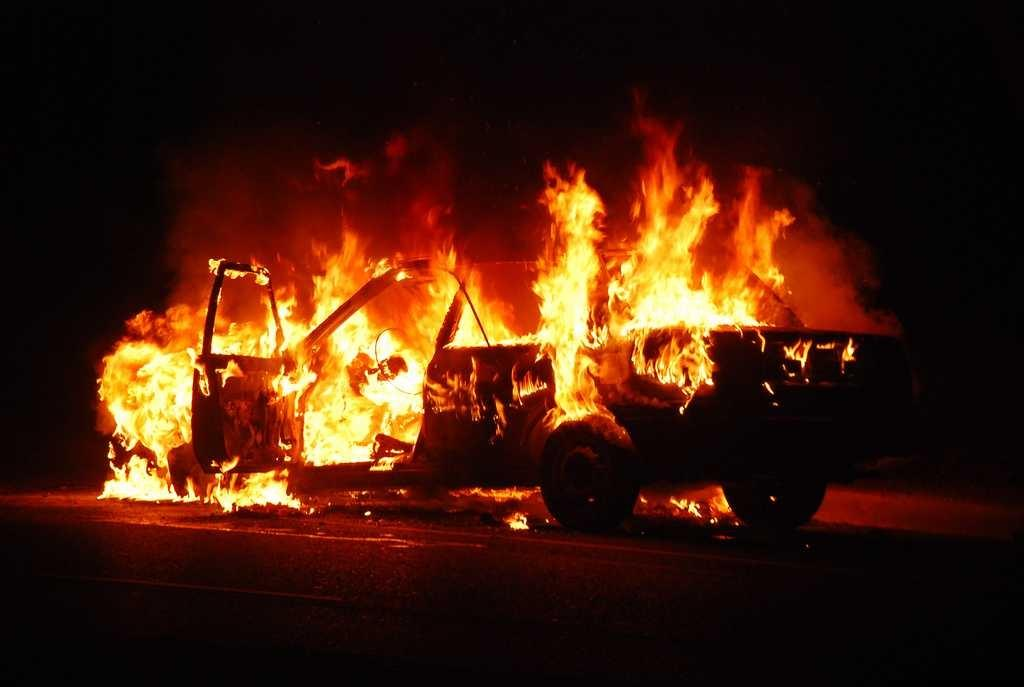fire: (545, 188, 760, 323), (295, 295, 422, 458), (108, 335, 187, 502)
